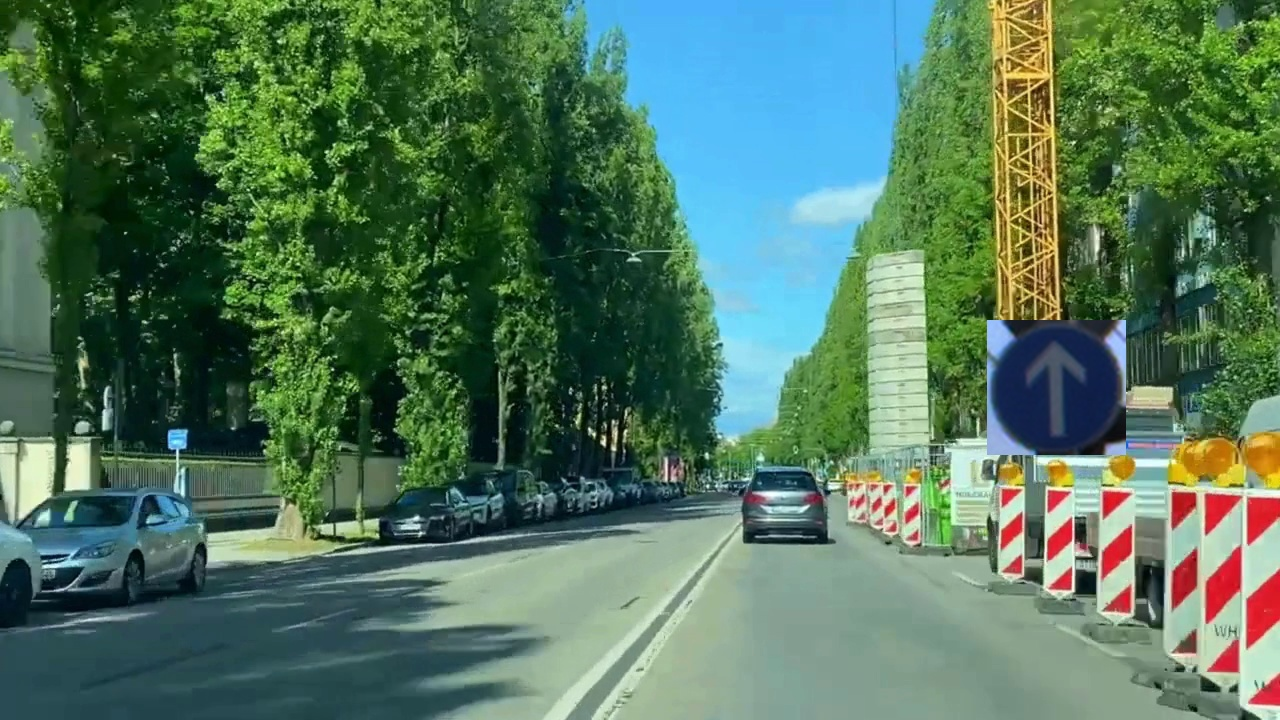Ahead only: (987, 320, 1126, 455)
